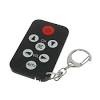remote control: (12, 18, 64, 80)
